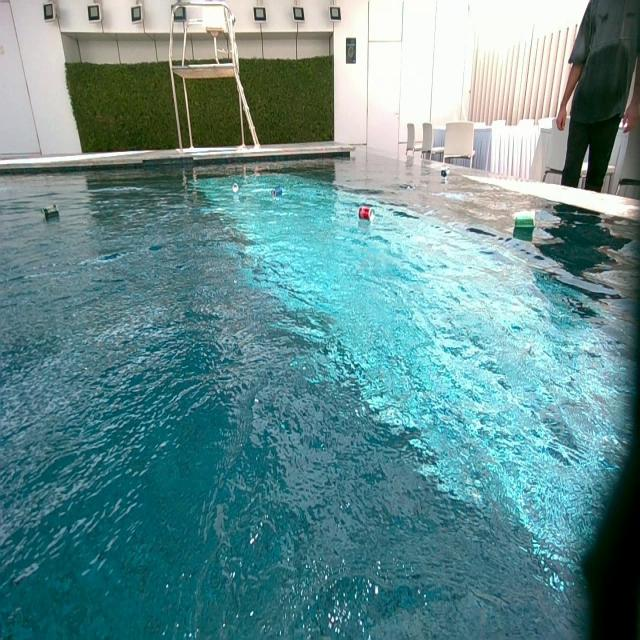Cans: (516, 213, 535, 229), (42, 204, 58, 222), (358, 206, 373, 222), (273, 186, 285, 197), (230, 185, 239, 195), (442, 169, 450, 178)
